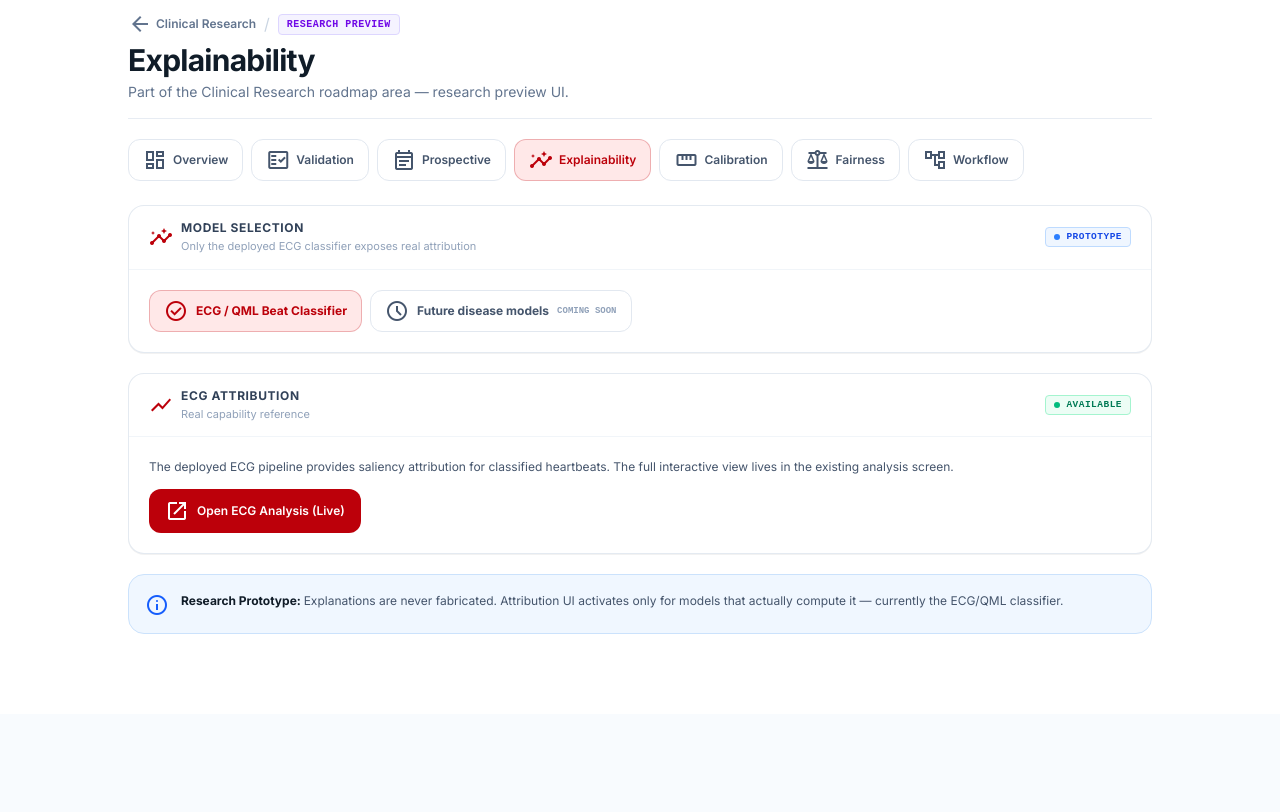
it: ResearchScreen (Phase 7) › explainability references the real ECG capability and blocks the rest
Expected: the text "deployed ECG pipeline provides saliency attribution" is shown, [149,459,954,474]
Step 1. Click the button with id "explain-model-future" → [501, 310], box [370,290,632,332]
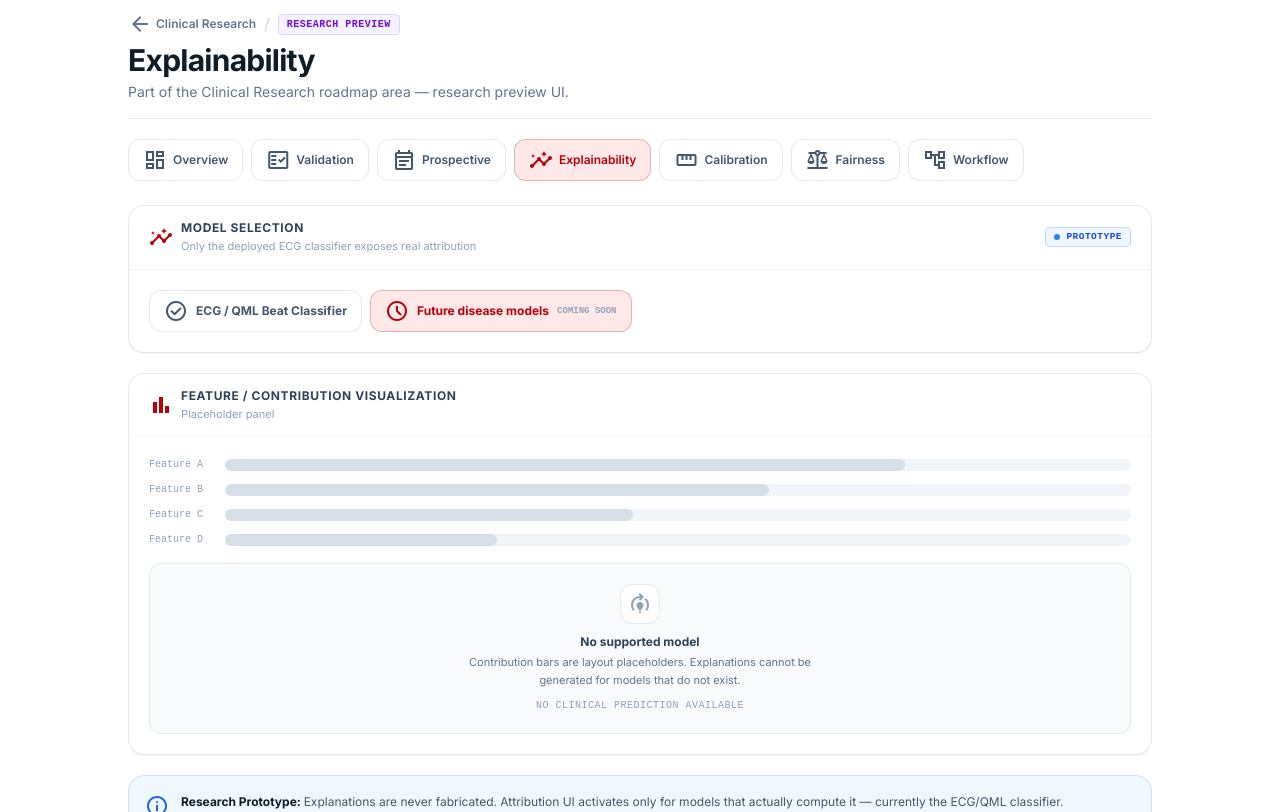
Result: the text "explanations cannot be generated for models that do not exist" is shown at [469,655,811,687]
